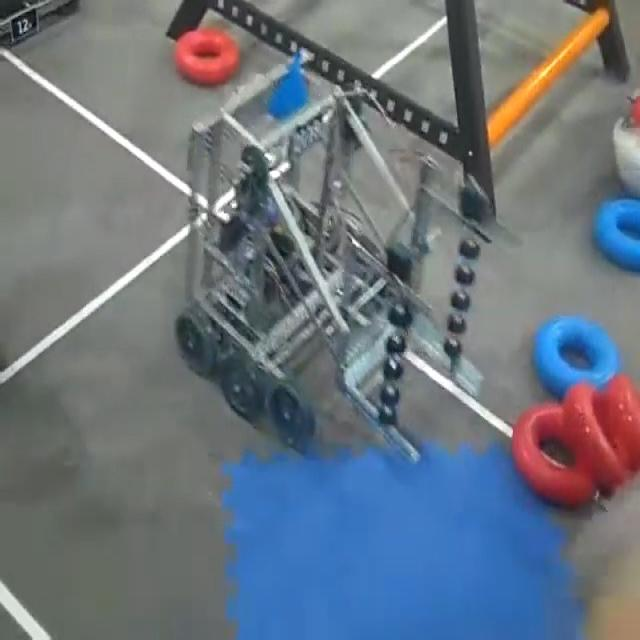Blue-Ring: (534, 315, 621, 396), (594, 198, 640, 271)
Red-Ring: (512, 403, 592, 506), (560, 383, 625, 492), (595, 375, 640, 471), (175, 28, 239, 85)
